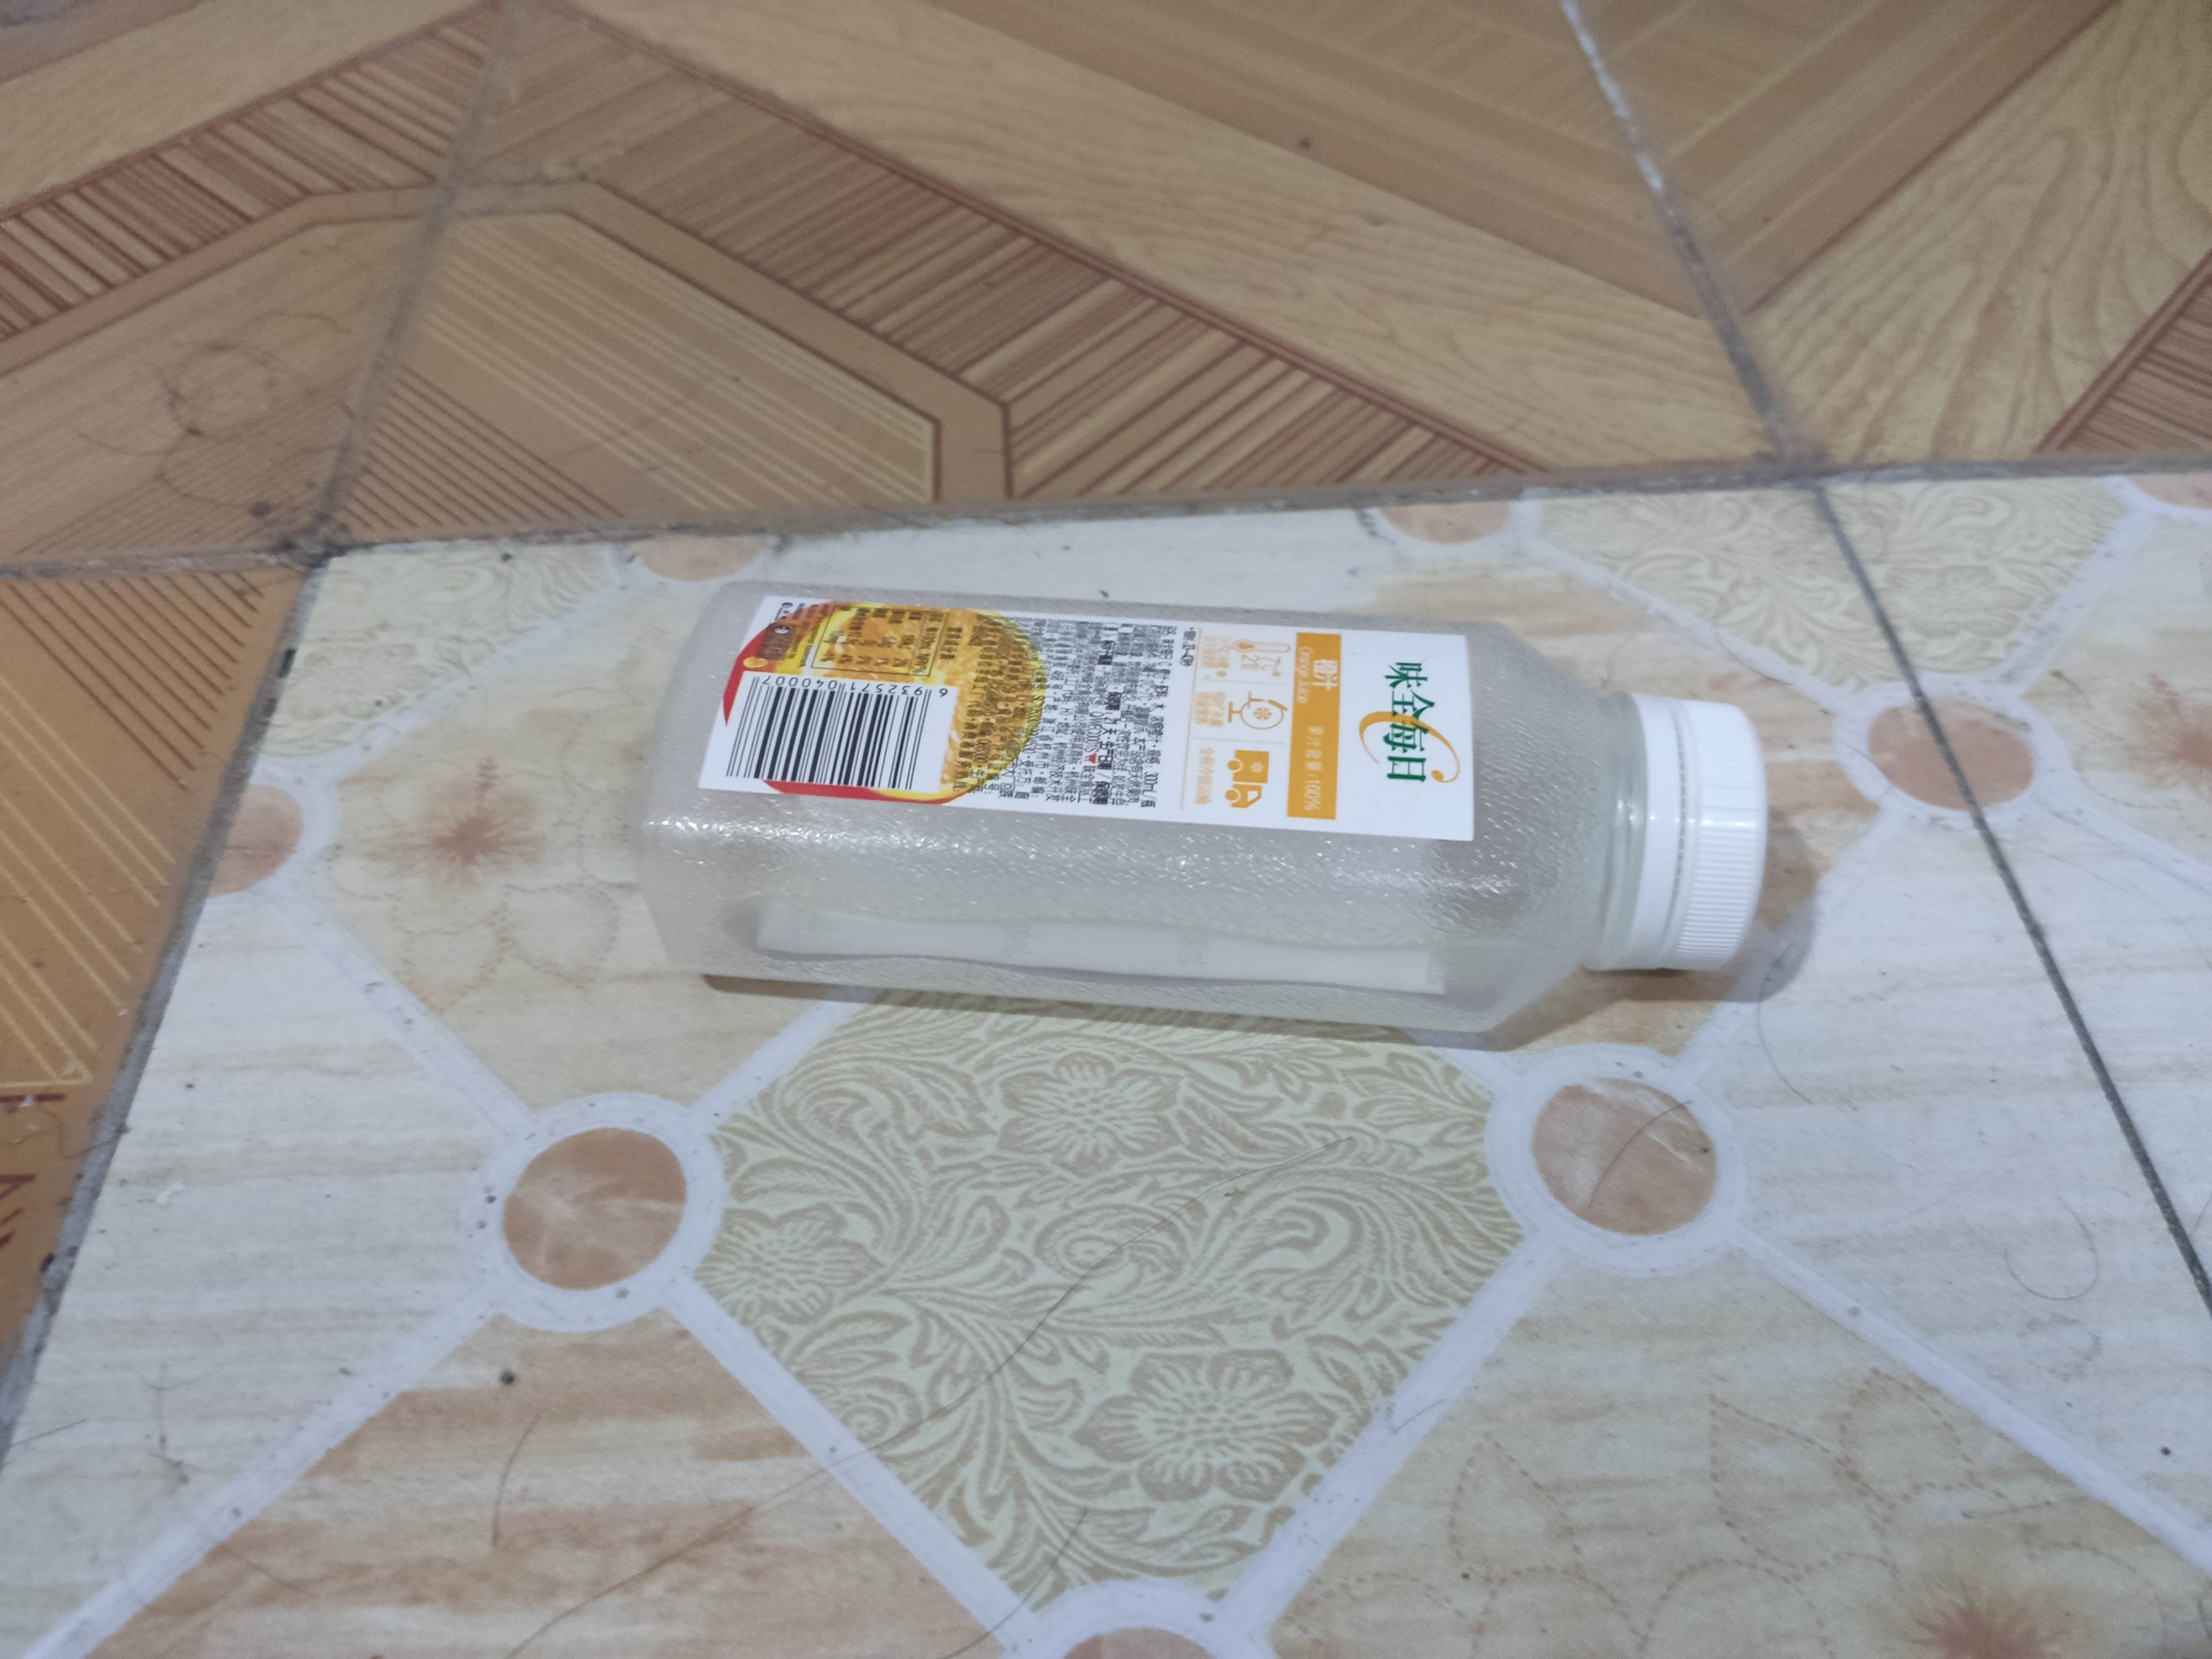Plastic Bottle: (620, 572, 1780, 1044)
